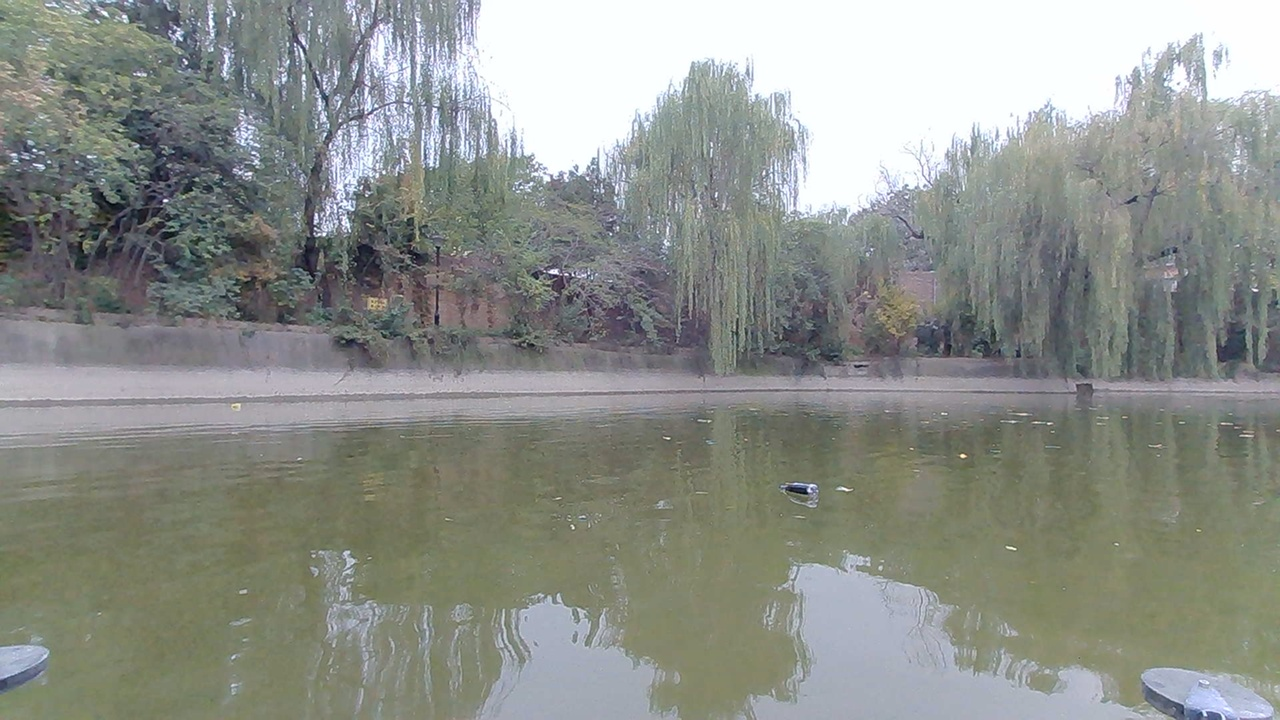bottle: (778, 473, 832, 507)
